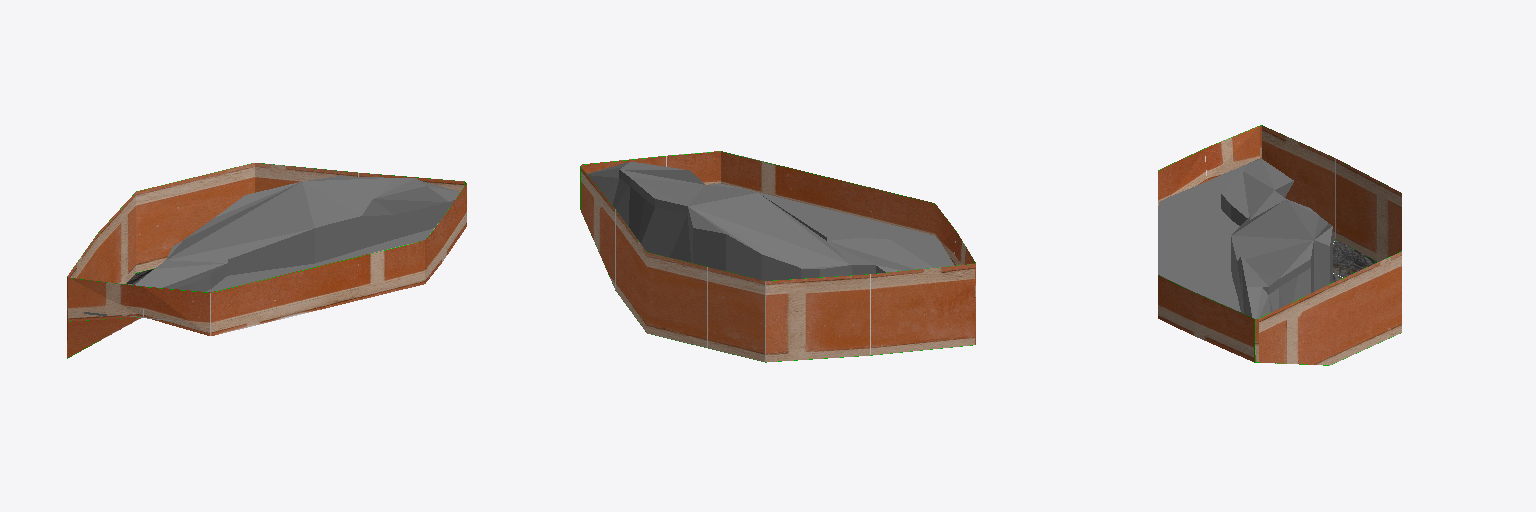
3 views of the same model, side by side, from view 1: azimuth 30°, elevation 25°; view 2: azimuth 150°, elevation 25°; view 3: azimuth 270°, elevation 25° (orthographic).
Visible parts, largest first — view 1: Plane009_chimpances, Plane003_chimpances, Plane002_chimpances; view 2: Plane009_chimpances, Plane003_chimpances, Plane002_chimpances; view 3: Plane009_chimpances, Plane003_chimpances, Plane002_chimpances.
Part boxes in pixels (x1,y1,x2,y2): Plane009_chimpances: (67, 163, 466, 358); Plane003_chimpances: (84, 176, 459, 316); Plane002_chimpances: (113, 215, 466, 322); Plane009_chimpances: (580, 151, 975, 362); Plane003_chimpances: (587, 162, 933, 280); Plane002_chimpances: (709, 183, 954, 267); Plane009_chimpances: (1158, 125, 1401, 365); Plane003_chimpances: (1221, 159, 1332, 318); Plane002_chimpances: (1158, 170, 1249, 348).
Bounding box in the file's own units: 130 × 29.71 × 69.31.
Materials: 3 (1 with a texture image).